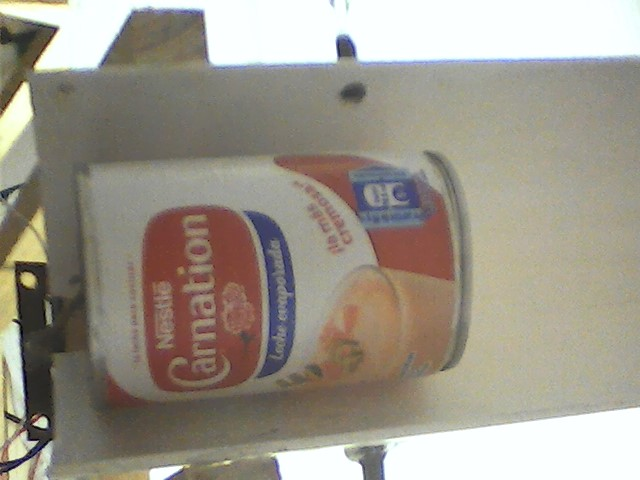lata: (68, 145, 483, 419)
